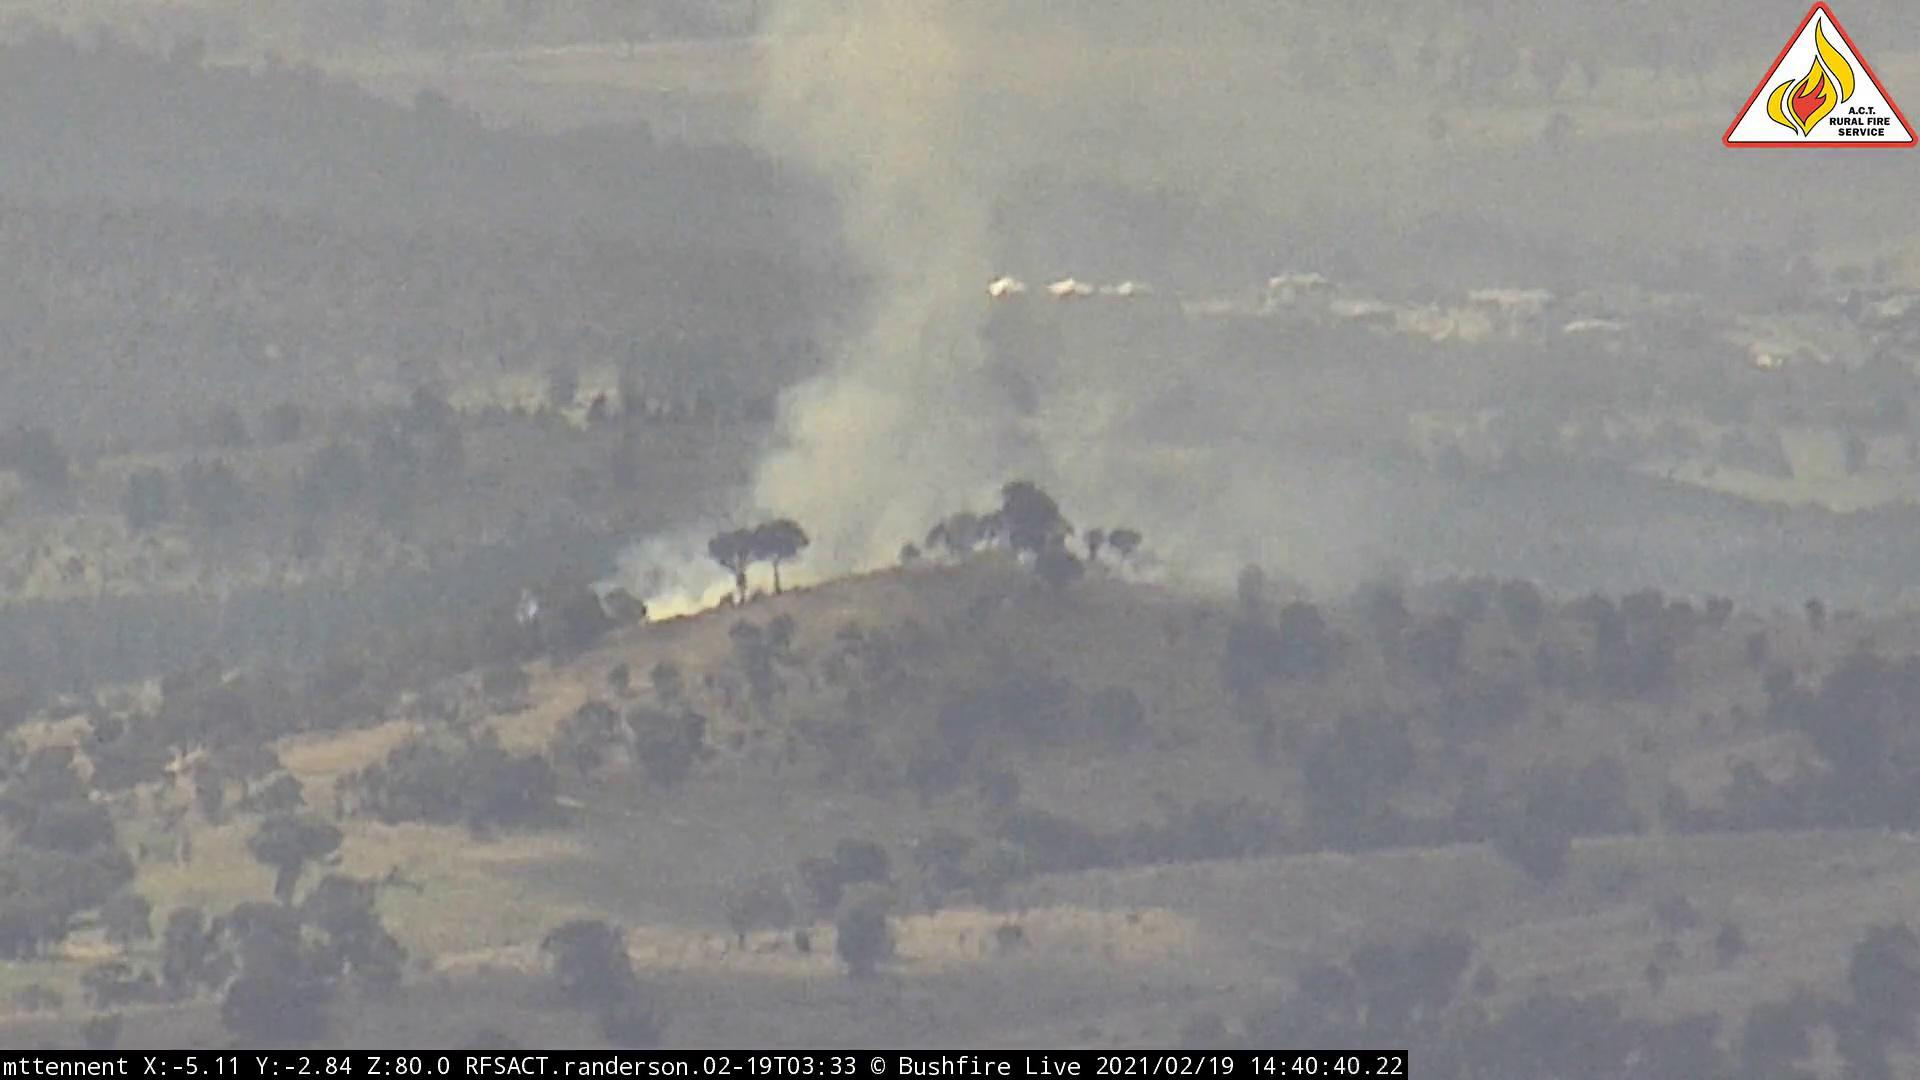instance_salient_object: (607, 38, 1212, 634)
